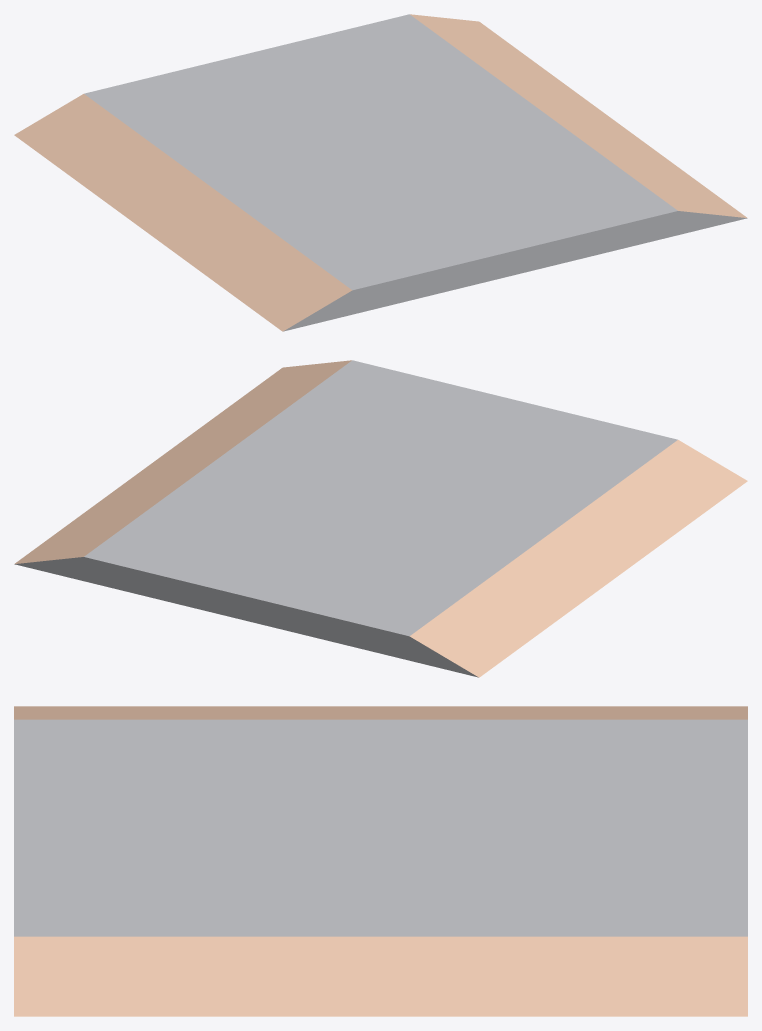
Rendered from path_short.glb.
3 views of the same model, one above another, from view 1: azimuth 30°, elevation 25°; view 2: azimuth 150°, elevation 25°; view 3: azimuth 270°, elevation 25° (orthographic). The views are drawn at different scales.
Visible parts, largest first — view 1: path_short; view 2: path_short; view 3: path_short.
Part boxes in pixels (left/top/right/bottom): path_short: left=14, top=14, right=747, bottom=331; path_short: left=14, top=360, right=747, bottom=677; path_short: left=14, top=706, right=747, bottom=1016.
Bounding box in the file's own units: 0.2 × 0.01 × 0.2.
